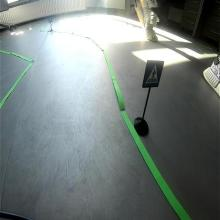crosswalk: (142, 60, 164, 88)
